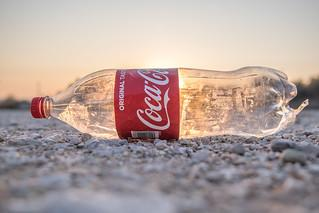bottle: (29, 63, 303, 171)
